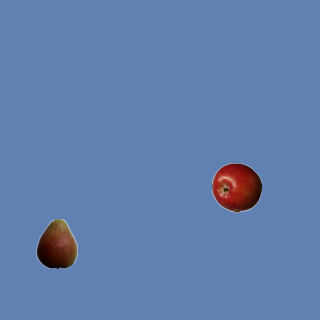Apple Braeburn: (211, 162, 261, 212)
Pear Forelle: (31, 218, 81, 268)
